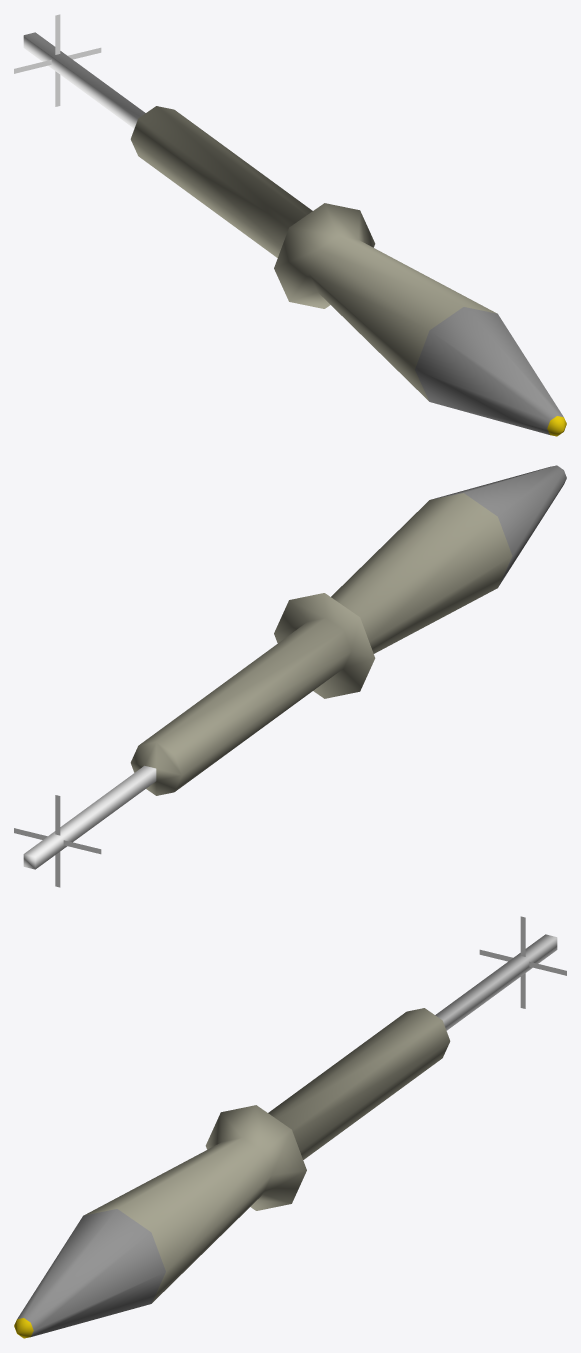
File: missile.dae
The picture shows the model from 3 angles, top to bottom: view 1: azimuth 30°, elevation 25°; view 2: azimuth 150°, elevation 25°; view 3: azimuth 330°, elevation 25°; orthographic projection.
Visible parts, largest first — view 1: missile; view 2: missile; view 3: missile.
Part boxes in pixels (<box>): missile: <box>14,14,566,436</box>; missile: <box>14,465,566,887</box>; missile: <box>14,916,566,1338</box>.
Bounding box in the file's own units: 0.5092 × 4.64 × 0.5092.
